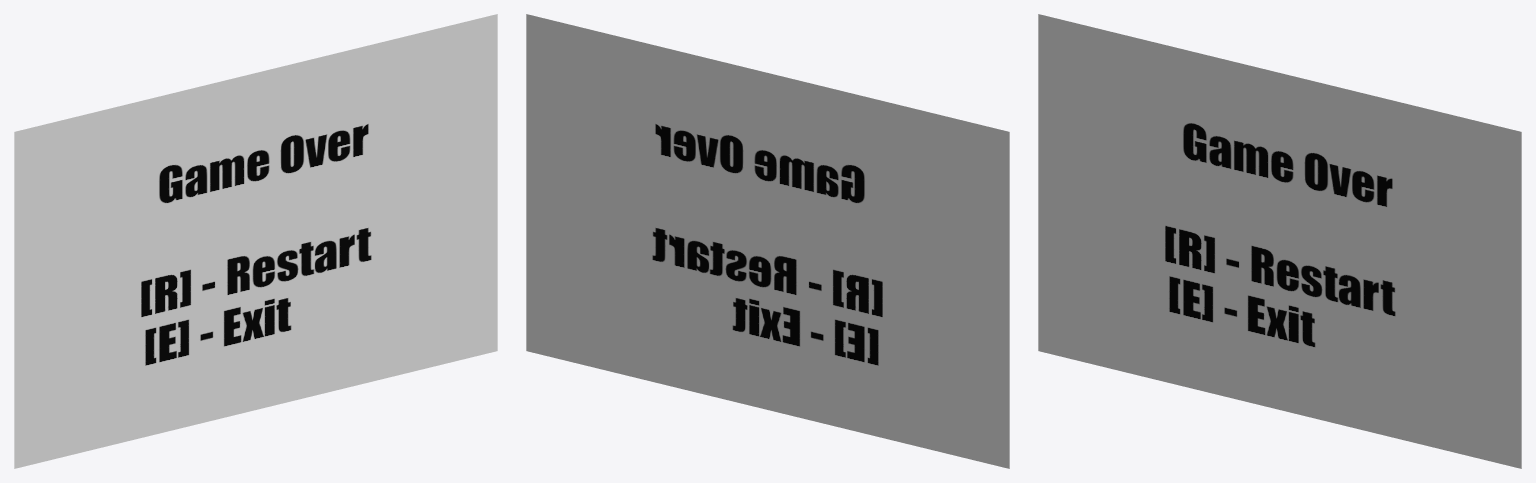
Rendered from gameovermenu.obj.
3 renders of one model, left to right at view 1: azimuth 30°, elevation 25°; view 2: azimuth 150°, elevation 25°; view 3: azimuth 330°, elevation 25°, orthographic.
Parts seen in each view (by area): view 1: Ebene; view 2: Ebene; view 3: Ebene.
Part boxes in pixels (x1=…): Ebene: x1=14, y1=14, x2=497, y2=468; Ebene: x1=526, y1=14, x2=1009, y2=468; Ebene: x1=1038, y1=14, x2=1521, y2=468.
Size of the model in its own units: 750 by 500 by 4e-14.
